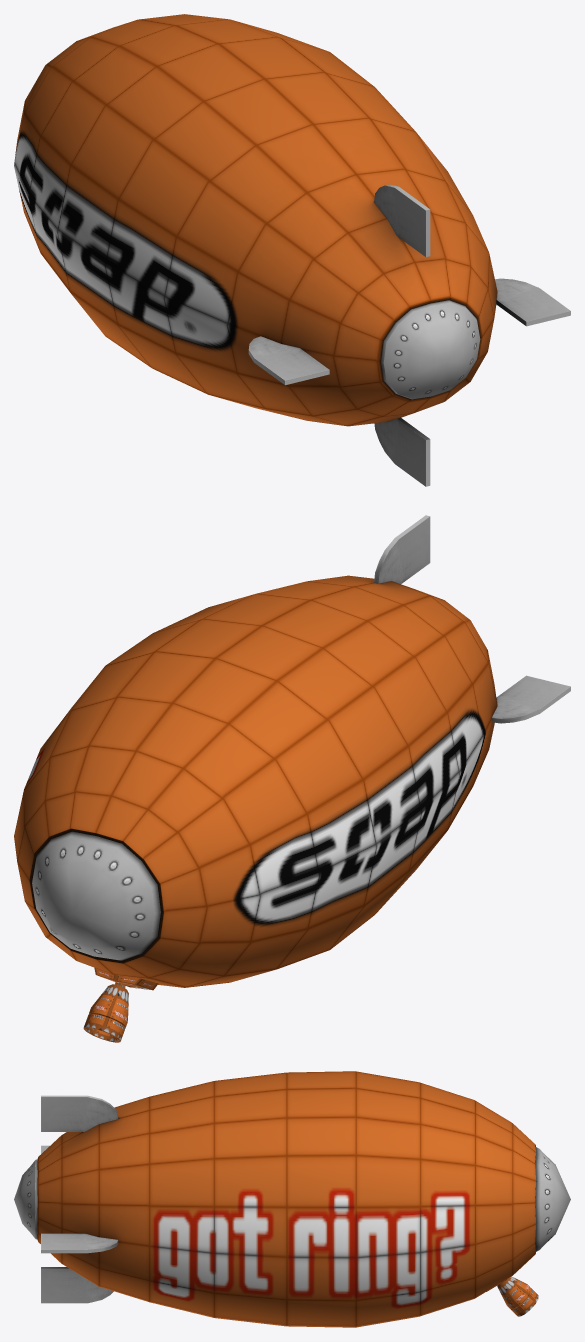
The model's file is Blimp.obj.
3 renders of one model, top to bottom at view 1: azimuth 30°, elevation 25°; view 2: azimuth 150°, elevation 25°; view 3: azimuth 270°, elevation 25°, orthographic. The views are drawn at different scales.
Parts seen in each view (by area): view 1: Cylinder.001; view 2: Cylinder.001; view 3: Cylinder.001.
Part boxes in pixels (x1,y1,x2,y2): Cylinder.001: [14, 14, 570, 486]; Cylinder.001: [14, 515, 570, 1042]; Cylinder.001: [14, 1071, 570, 1327].
Bounding box in the file's own units: 19.05 × 17.34 × 38.49.
Materials: 1 (1 with a texture image).
